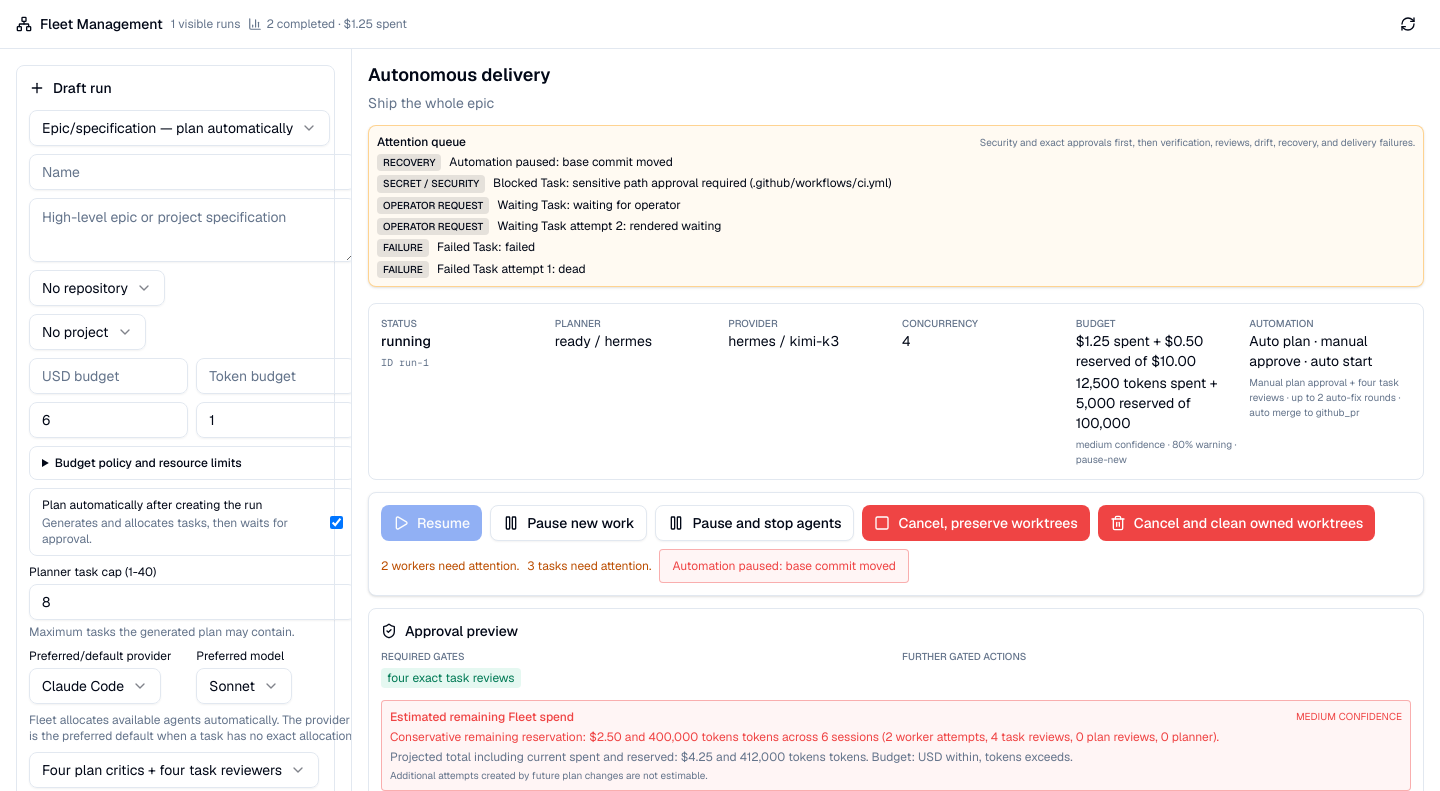
FleetManagementView status drilldowns › explains imported-plan critic consent before either approval mode
This screenshot has width=1440, height=791.
Click the dropdown named "Fleet input mode" at (180, 128), box [29,110,330,146]
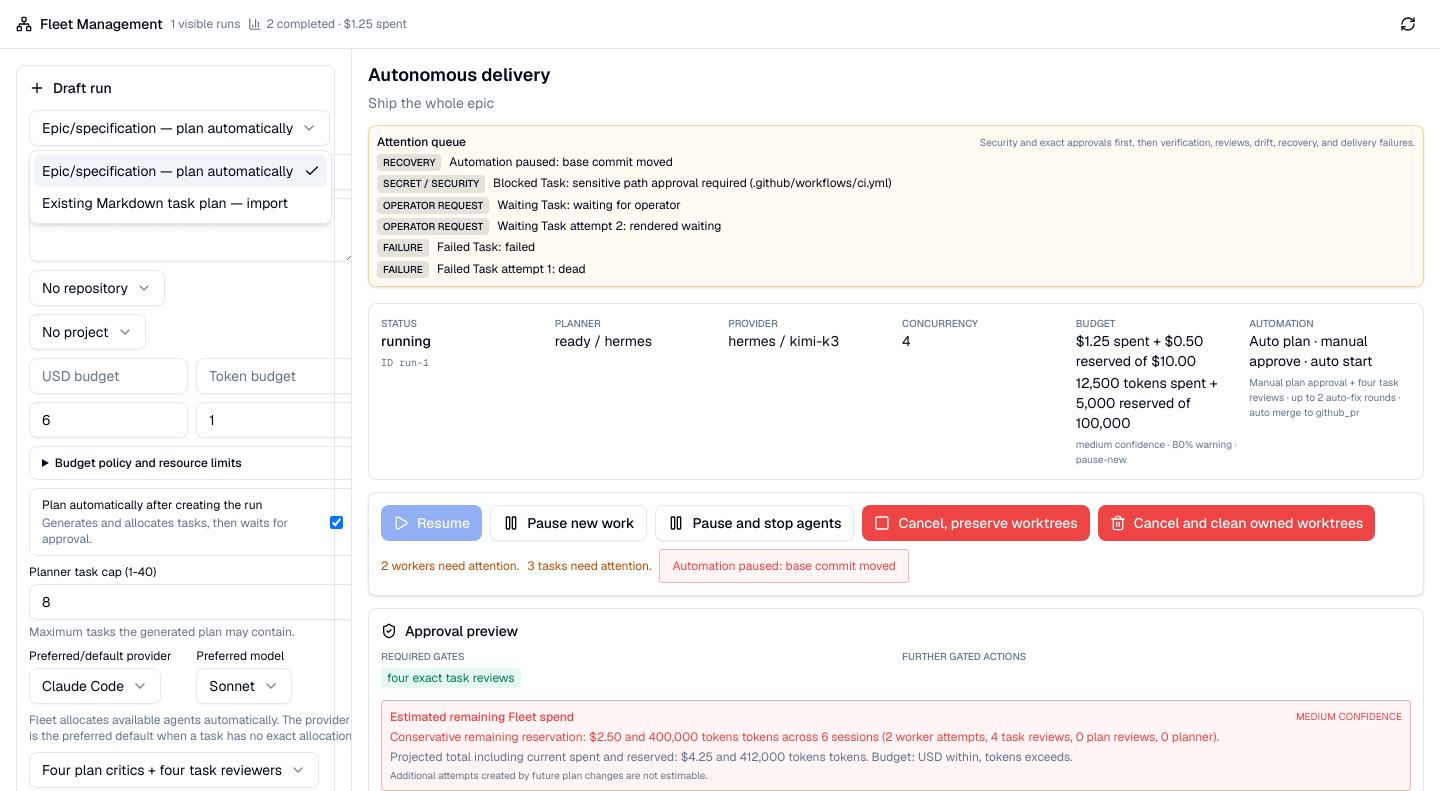
Click the option "Existing Markdown task plan — import" at (165, 203), box [42,194,288,212]
(page scrolled)
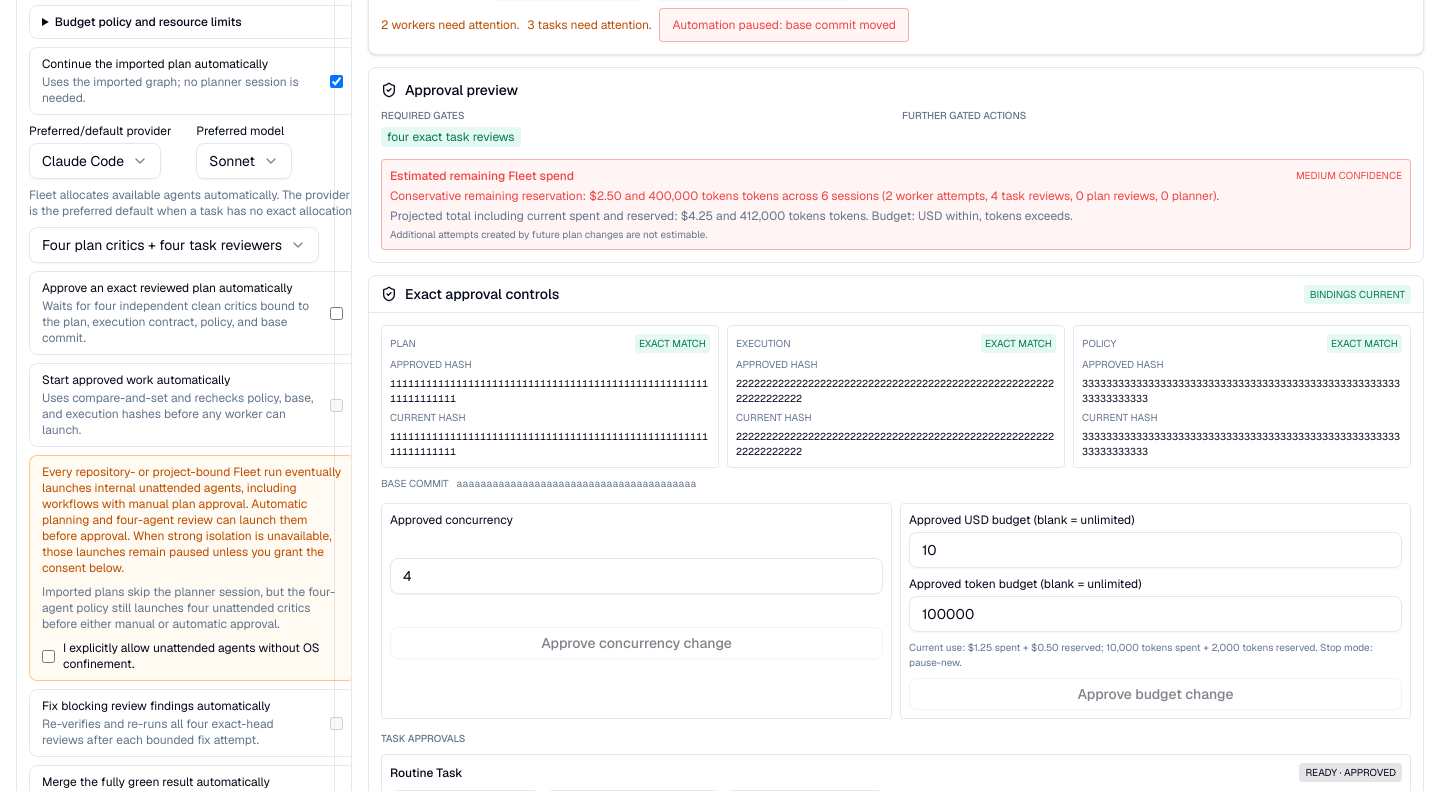
Check: the checkbox named "Allow unconfined unattended agents" is shown, box [42,650,55,662]
Check: the text "Imported plans skip the planner session" shows "before either manual or automatic approval", box [42,584,335,632]
